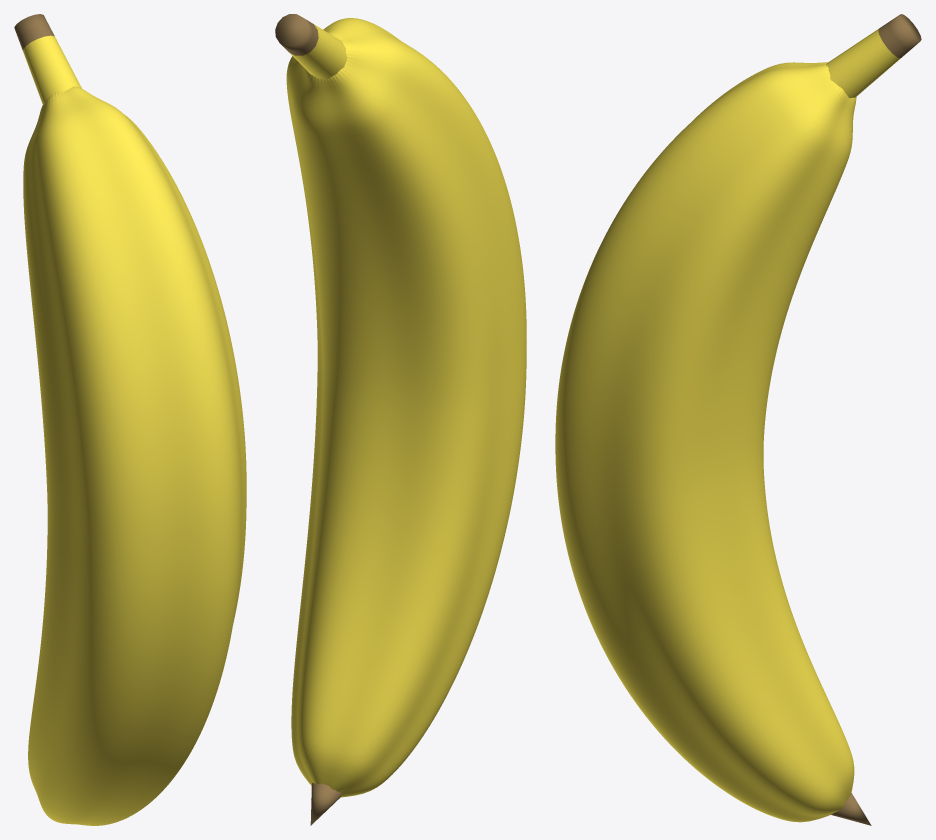
The model's file is Banana.glb.
The picture shows the model from 3 angles, left to right: view 1: azimuth 30°, elevation 25°; view 2: azimuth 150°, elevation 25°; view 3: azimuth 270°, elevation 25°; orthographic projection. The views are drawn at different scales.
Visible parts, largest first — view 1: Banana_Body, Banana_Stem; view 2: Banana_Body, Banana_Stem, Banana_Tip; view 3: Banana_Body, Banana_Stem.
Part boxes in pixels (x1,y1,x2,y2): Banana_Body: [23, 86, 246, 825]; Banana_Stem: [14, 14, 81, 104]; Banana_Body: [286, 18, 526, 797]; Banana_Stem: [275, 14, 347, 78]; Banana_Tip: [310, 783, 341, 825]; Banana_Body: [555, 62, 856, 822]; Banana_Stem: [826, 14, 921, 98].
Bounding box in the file's own units: 0.8446 × 3.69 × 1.51.
